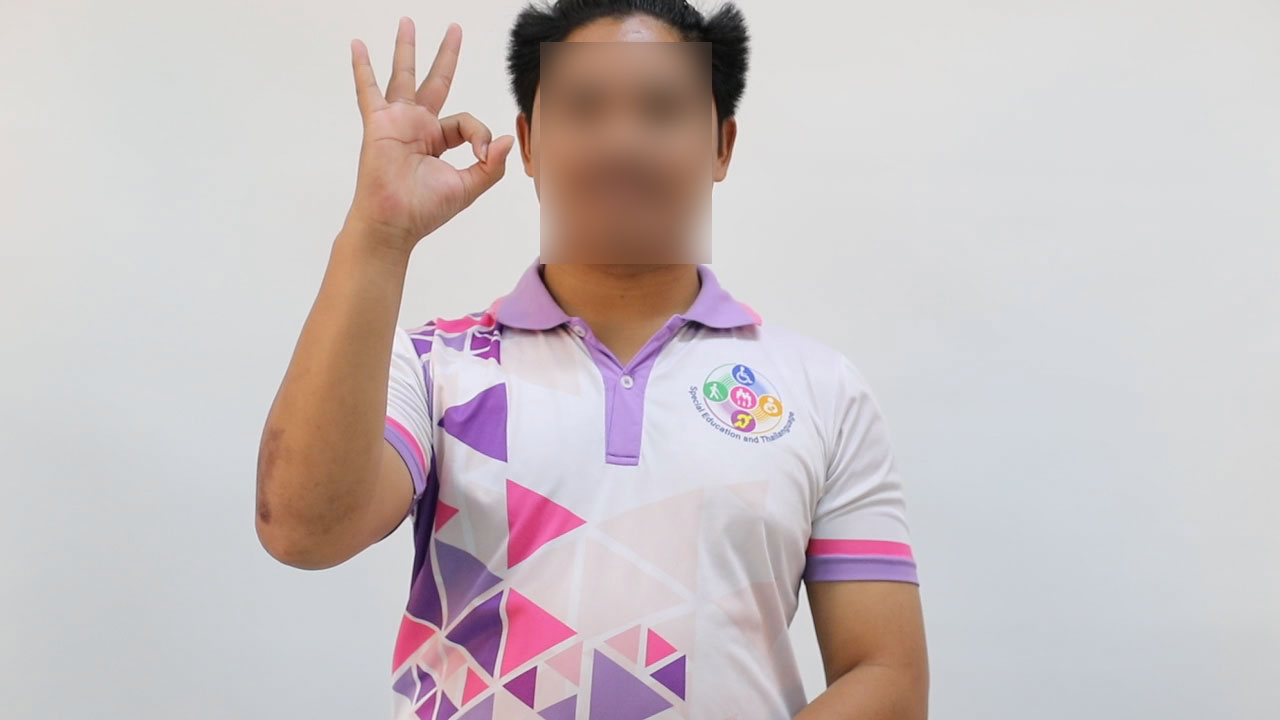for: (316, 8, 519, 256)
